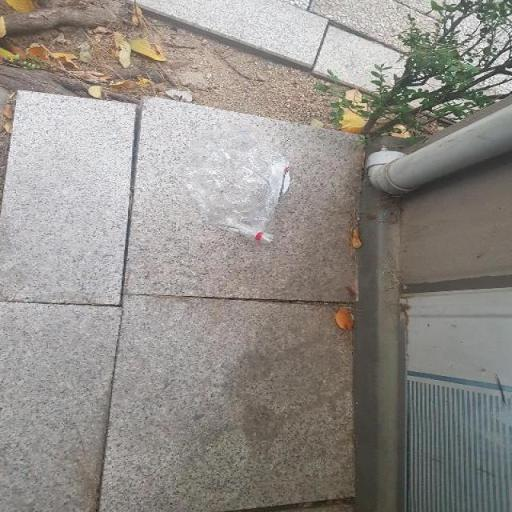plastic-bag: (174, 142, 302, 247)
